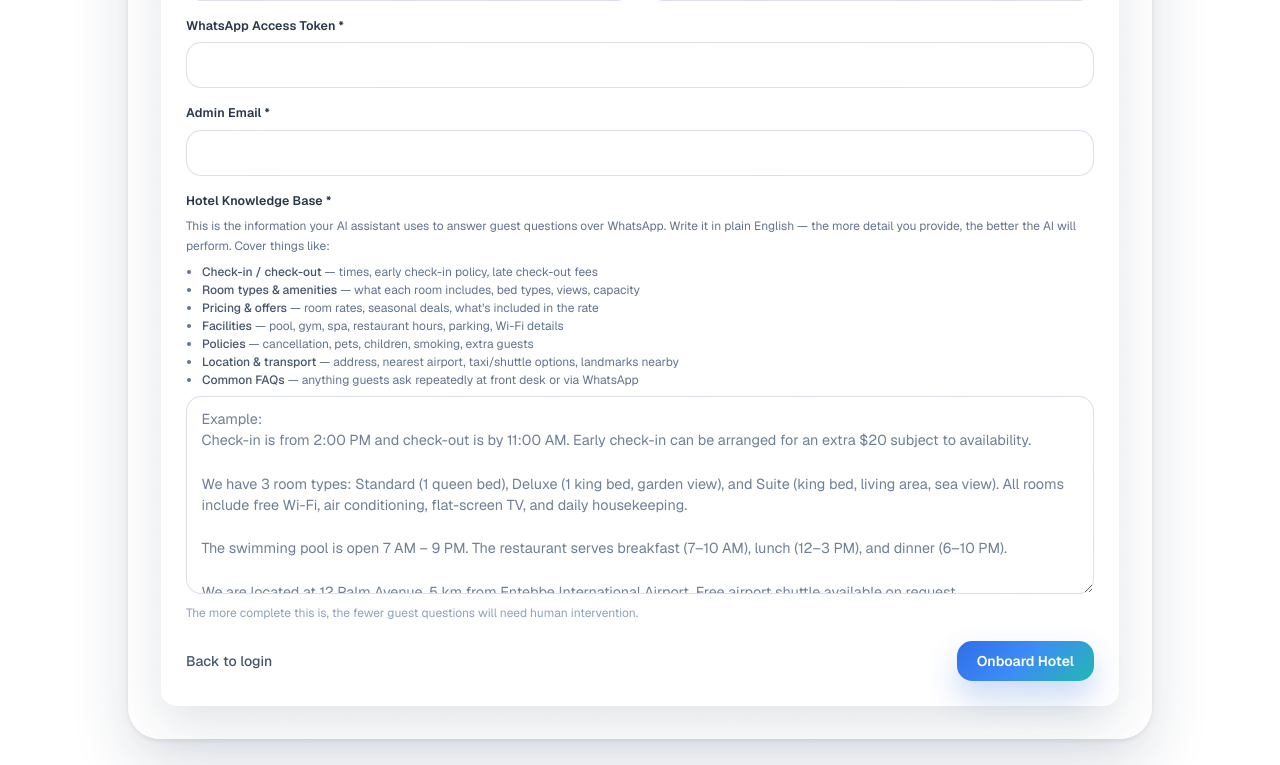
Hotel onboarding page › shows validation errors for required fields
The image size is (1280, 765).
(page scrolled)
Click the button "Onboard Hotel" at (1025, 661), box [957, 641, 1094, 681]
(page scrolled)
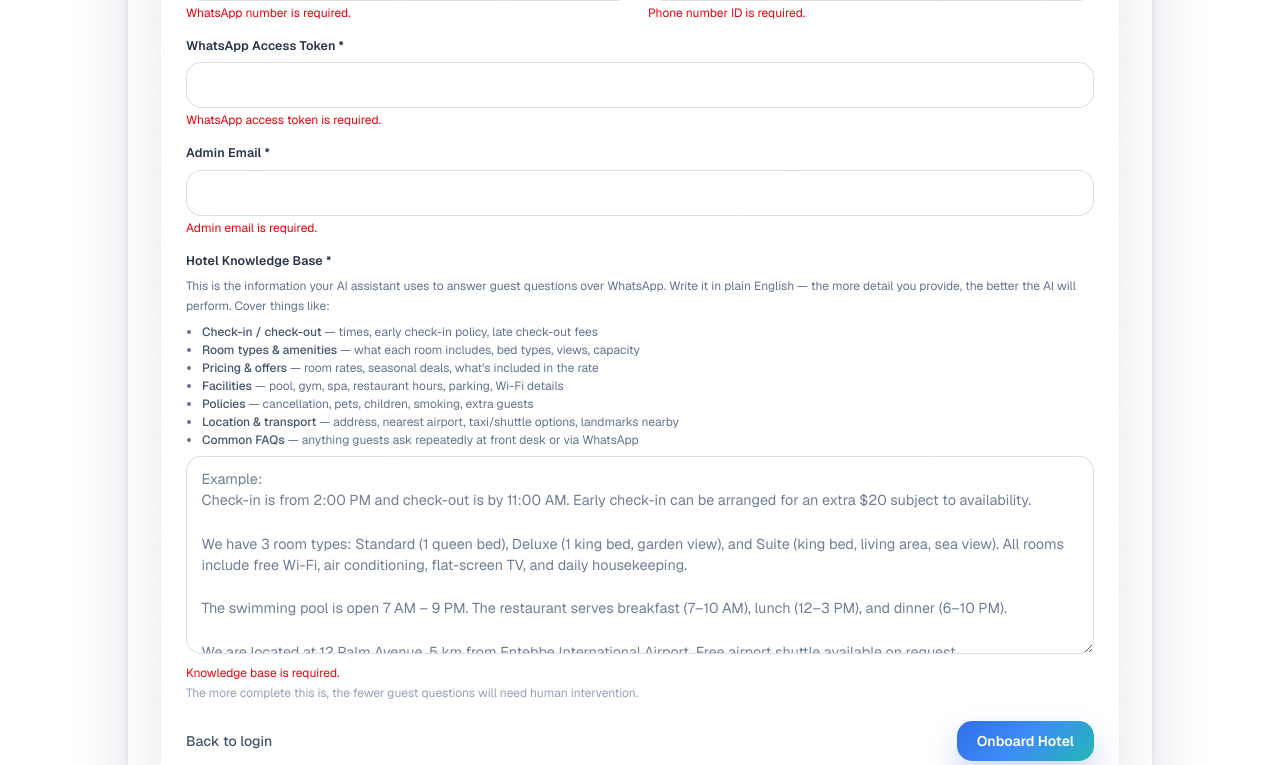
Check: the text "Admin email is required." is shown, box [186, 220, 317, 236]
